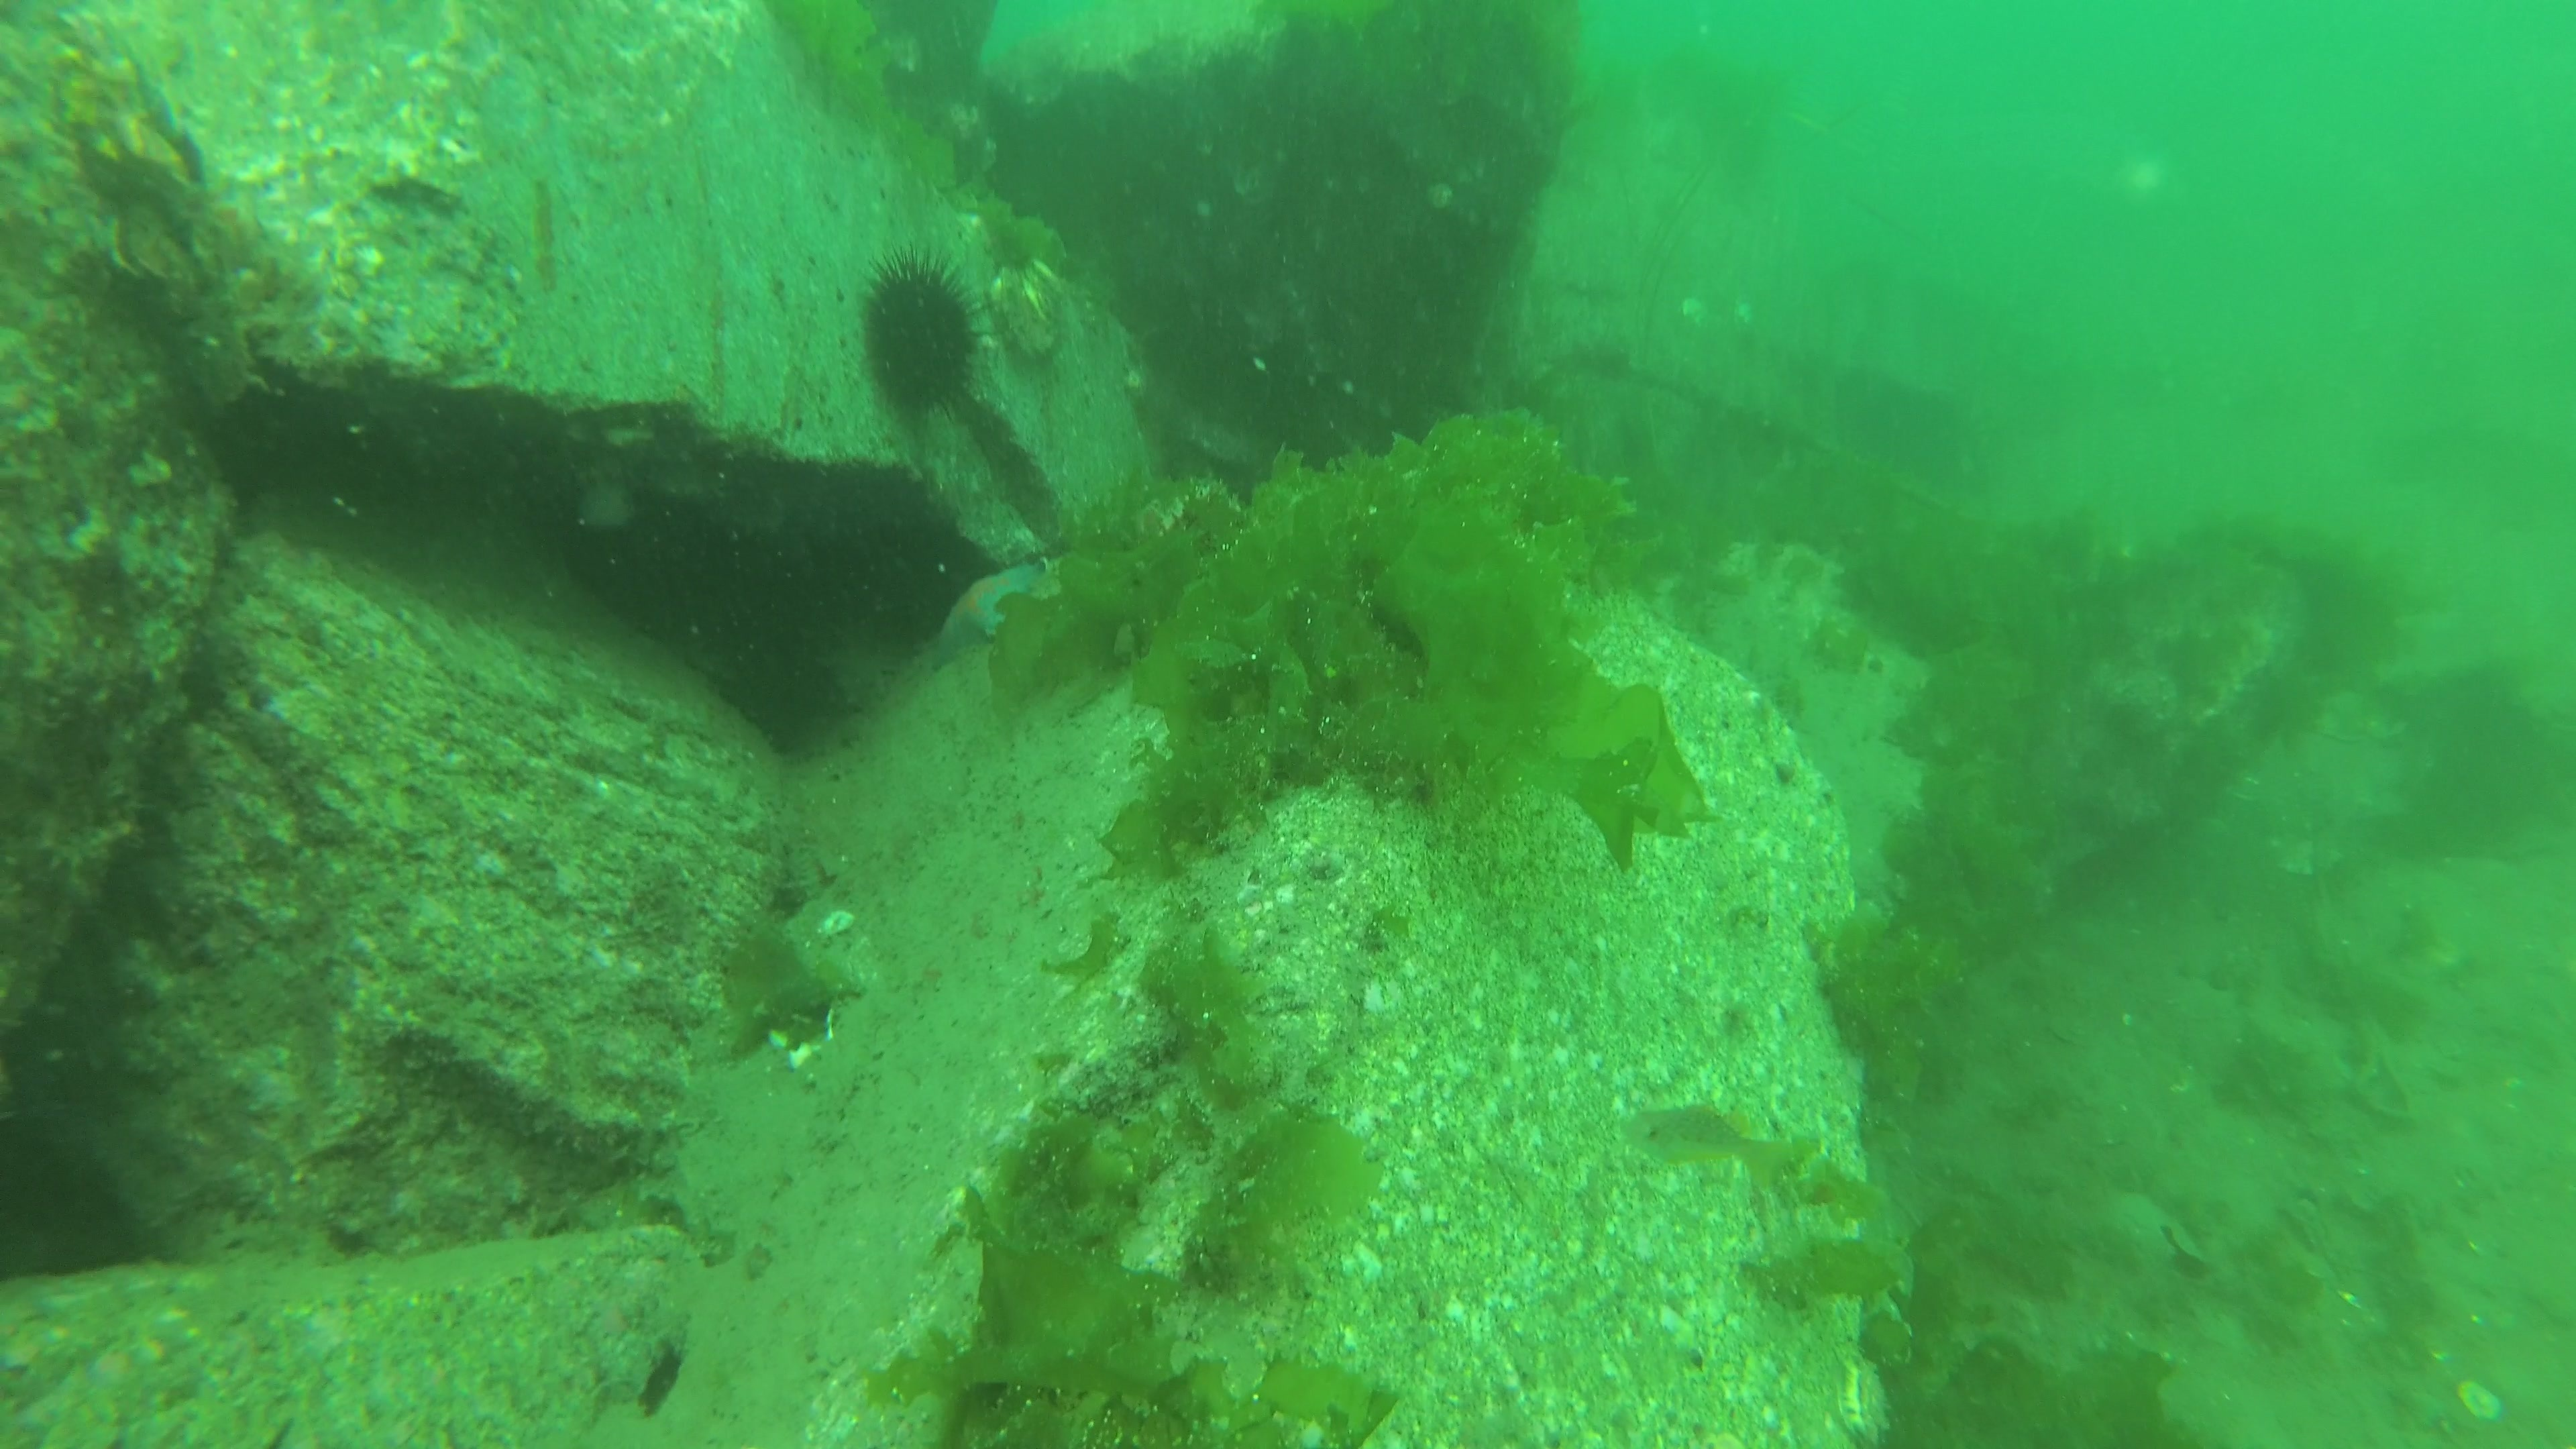echinus: (856, 234, 1001, 442)
starfish: (931, 557, 1051, 676)
